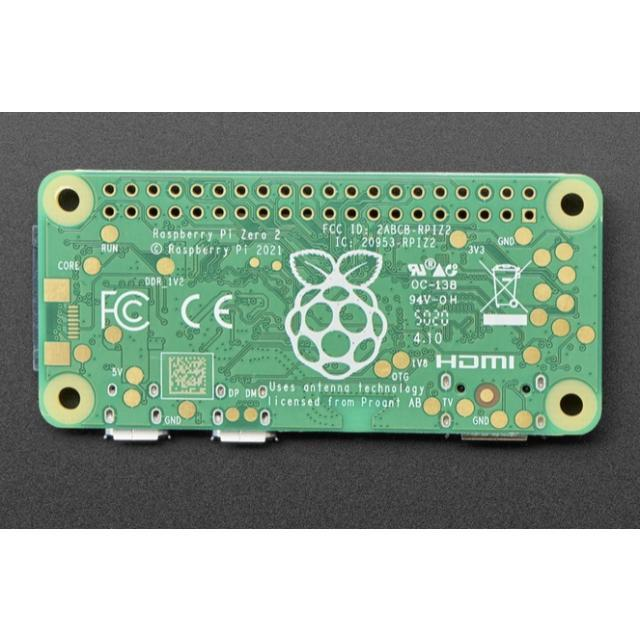Raspberry-Pi-Zero-2-W: (35, 170, 605, 444)
